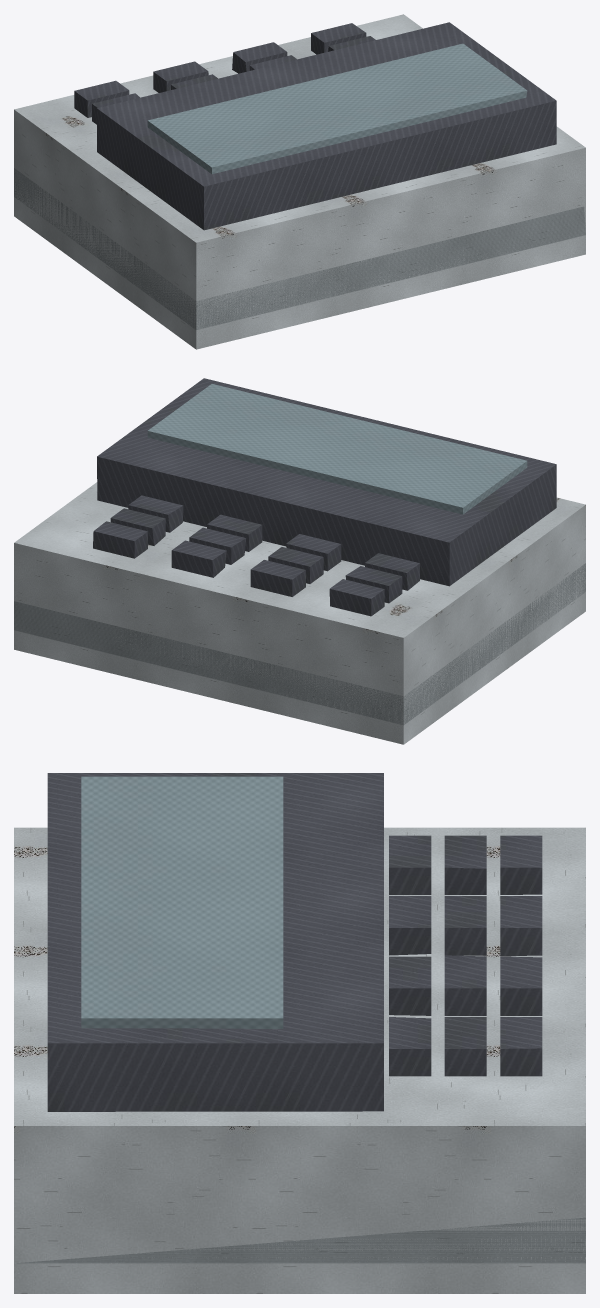
Rendered from register_v4.glb.
3 renders of one model, top to bottom at view 1: azimuth 30°, elevation 25°; view 2: azimuth 150°, elevation 25°; view 3: azimuth 270°, elevation 25°, orthographic. The views are drawn at different scales.
Parts seen in each view (by area): view 1: Variant_register_4; view 2: Variant_register_4; view 3: Variant_register_4.
Boxes of the visible parts, left/top/right/bottom form: Variant_register_4: left=14, top=14, right=585, bottom=349; Variant_register_4: left=14, top=378, right=585, bottom=744; Variant_register_4: left=14, top=773, right=585, bottom=1293.
Bounding box in the file's own units: 0.42 × 0.162 × 0.34.
4 materials, 4 textured.
